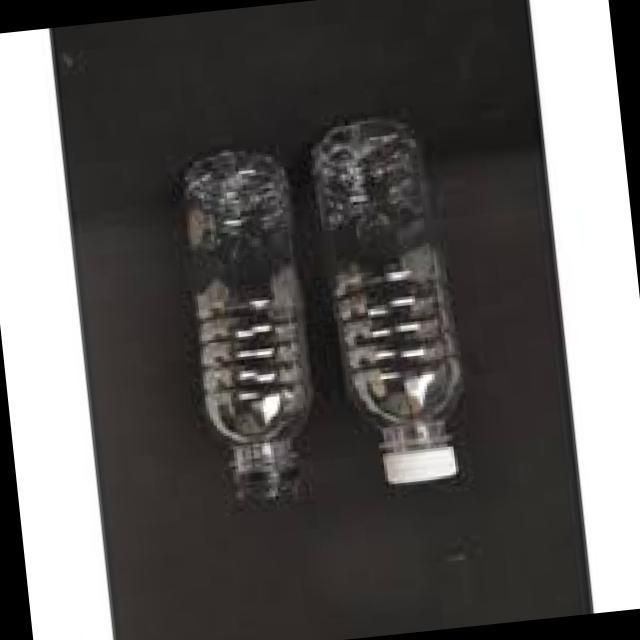good: (304, 108, 480, 503), (153, 132, 334, 510)
